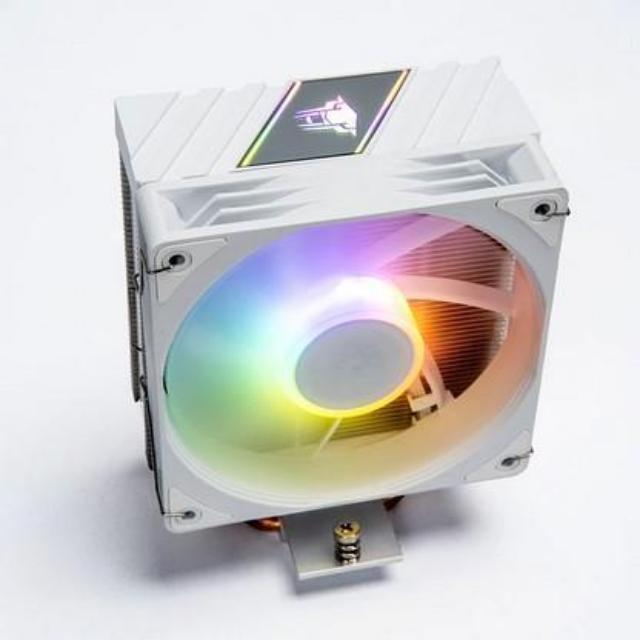CPU_Fan: (98, 51, 580, 600)
